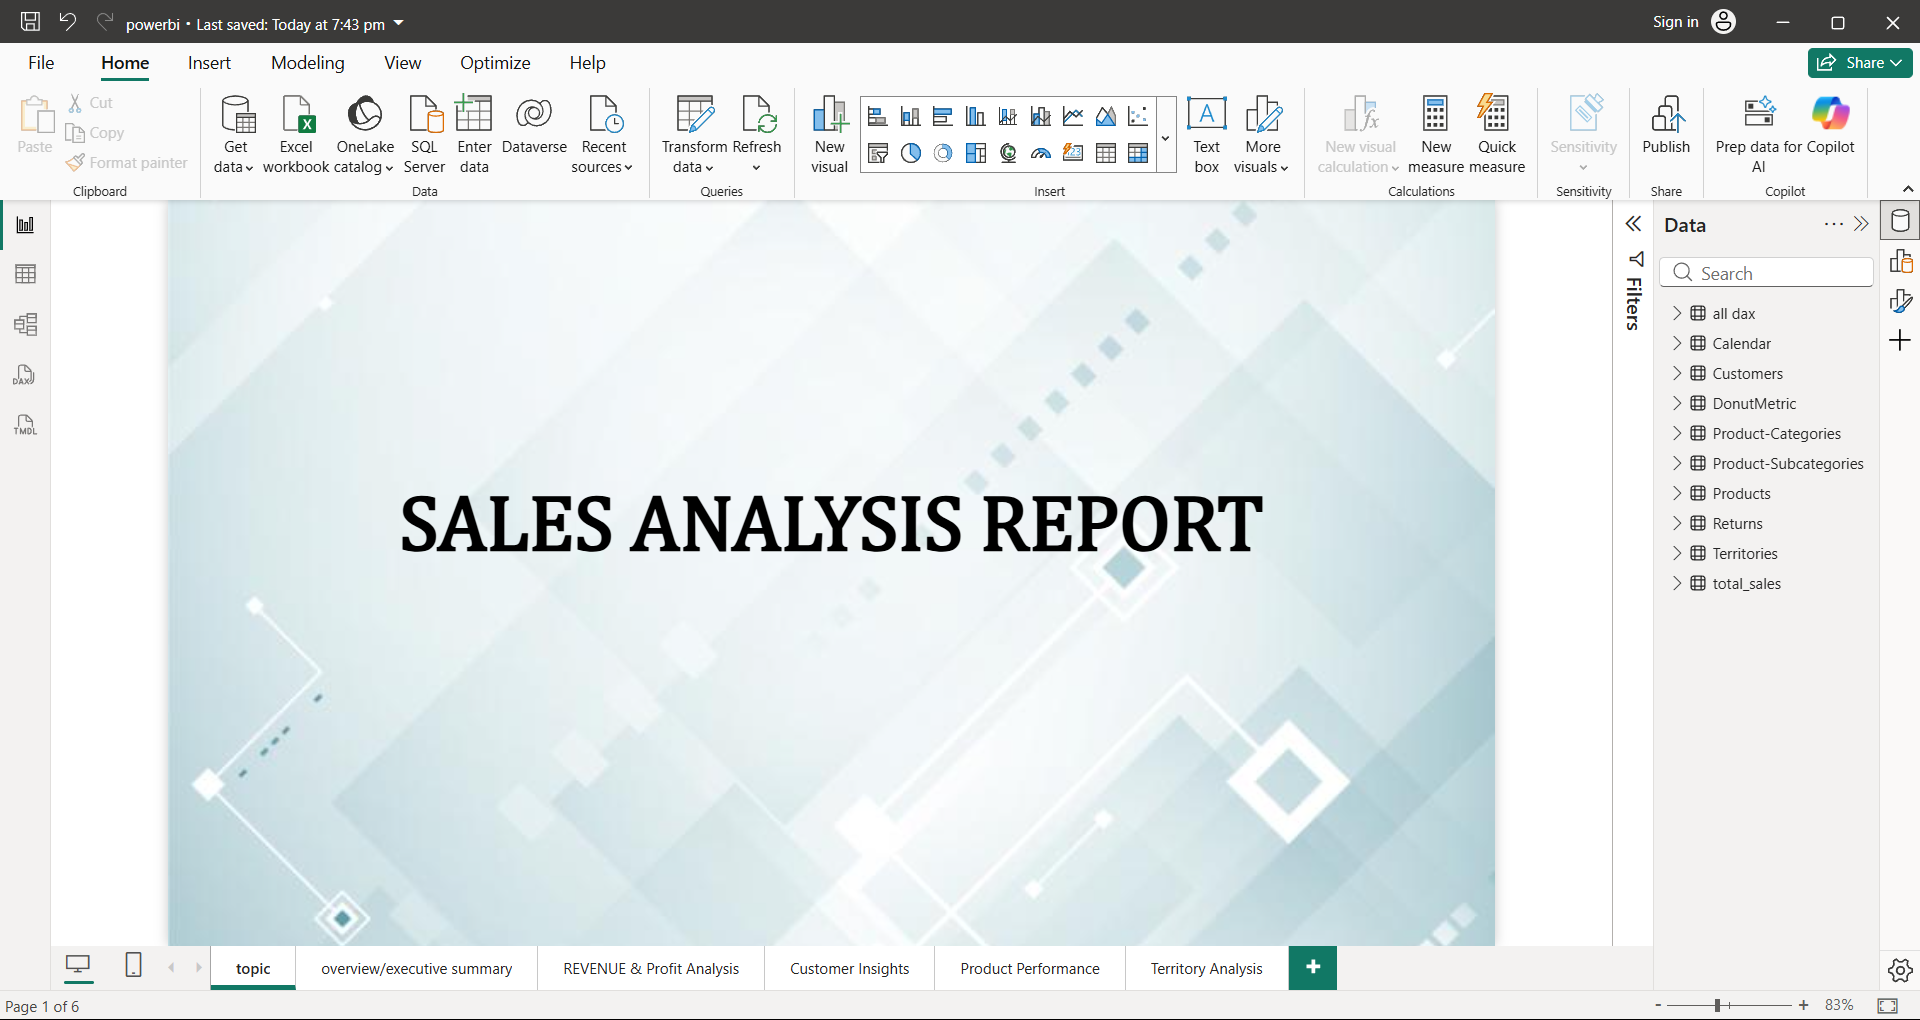

Layout of this report page (visuals, bound fields, positions):
{"tool":"powerbi","page":{"name":"topic","canvas":[1280,720],"ordinal":0},"visuals":[{"type":"textbox","title":"SALES  ANALYSIS REPORT","box":[218.9,272.3,865,128.1],"z":0}]}

Visuals, with their boxes on the page's 1280x720 design canvas (x1, y1, x2, y2). These are canvas units, not pixel positions in the 1920x1020 screenshot, which may show the page scaled, cropped or inside an application window:
"SALES  ANALYSIS REPORT" textbox: 219/272/1084/400
